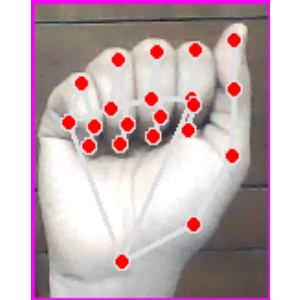A: (26, 1, 273, 299)
